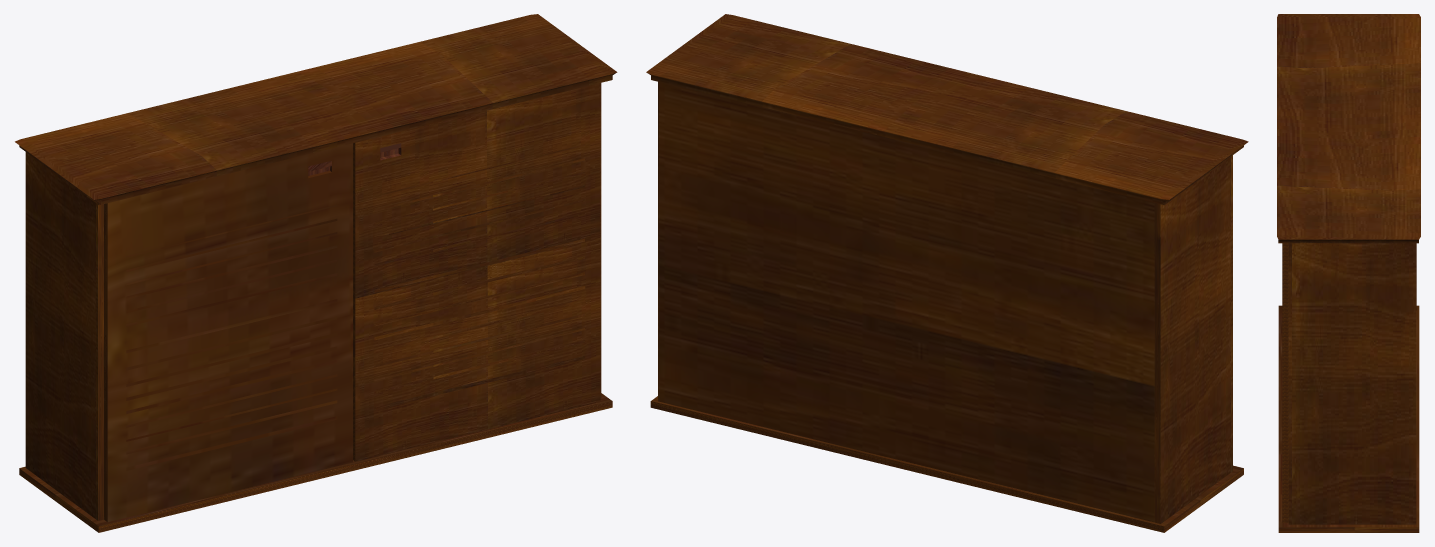
File: TVCUVOK.fbx
3 views of the same model, side by side, from view 1: azimuth 30°, elevation 25°; view 2: azimuth 150°, elevation 25°; view 3: azimuth 270°, elevation 25° (orthographic). The views are drawn at different scales.
Parts seen in each view (by area): view 1: pCube4, pasted__pCube4, pasted__pCube3, pCube2, pCube3; view 2: pCube1, pasted__pCube3, pCube2, pCube3; view 3: pasted__pCube2, pasted__pCube3, pCube3, pasted__pCube4.
Boxes of the visible parts, left/top/right/bottom form: pCube4: left=104, top=143, right=352, bottom=522; pasted__pCube4: left=353, top=83, right=600, bottom=461; pasted__pCube3: left=15, top=14, right=617, bottom=205; pCube2: left=25, top=152, right=103, bottom=520; pCube3: left=19, top=393, right=612, bottom=532; pCube1: left=658, top=82, right=1154, bottom=522; pasted__pCube3: left=646, top=14, right=1248, bottom=205; pCube2: left=1154, top=155, right=1232, bottom=523; pCube3: left=650, top=396, right=1243, bottom=532; pasted__pCube2: left=1288, top=243, right=1416, bottom=524; pasted__pCube3: left=1277, top=14, right=1420, bottom=243; pCube3: left=1278, top=305, right=1419, bottom=532; pasted__pCube4: left=1282, top=243, right=1288, bottom=522.
Size of the model in its own units: 83.56 by 50.99 by 22.49.
Materials: 2 (2 with a texture image).
